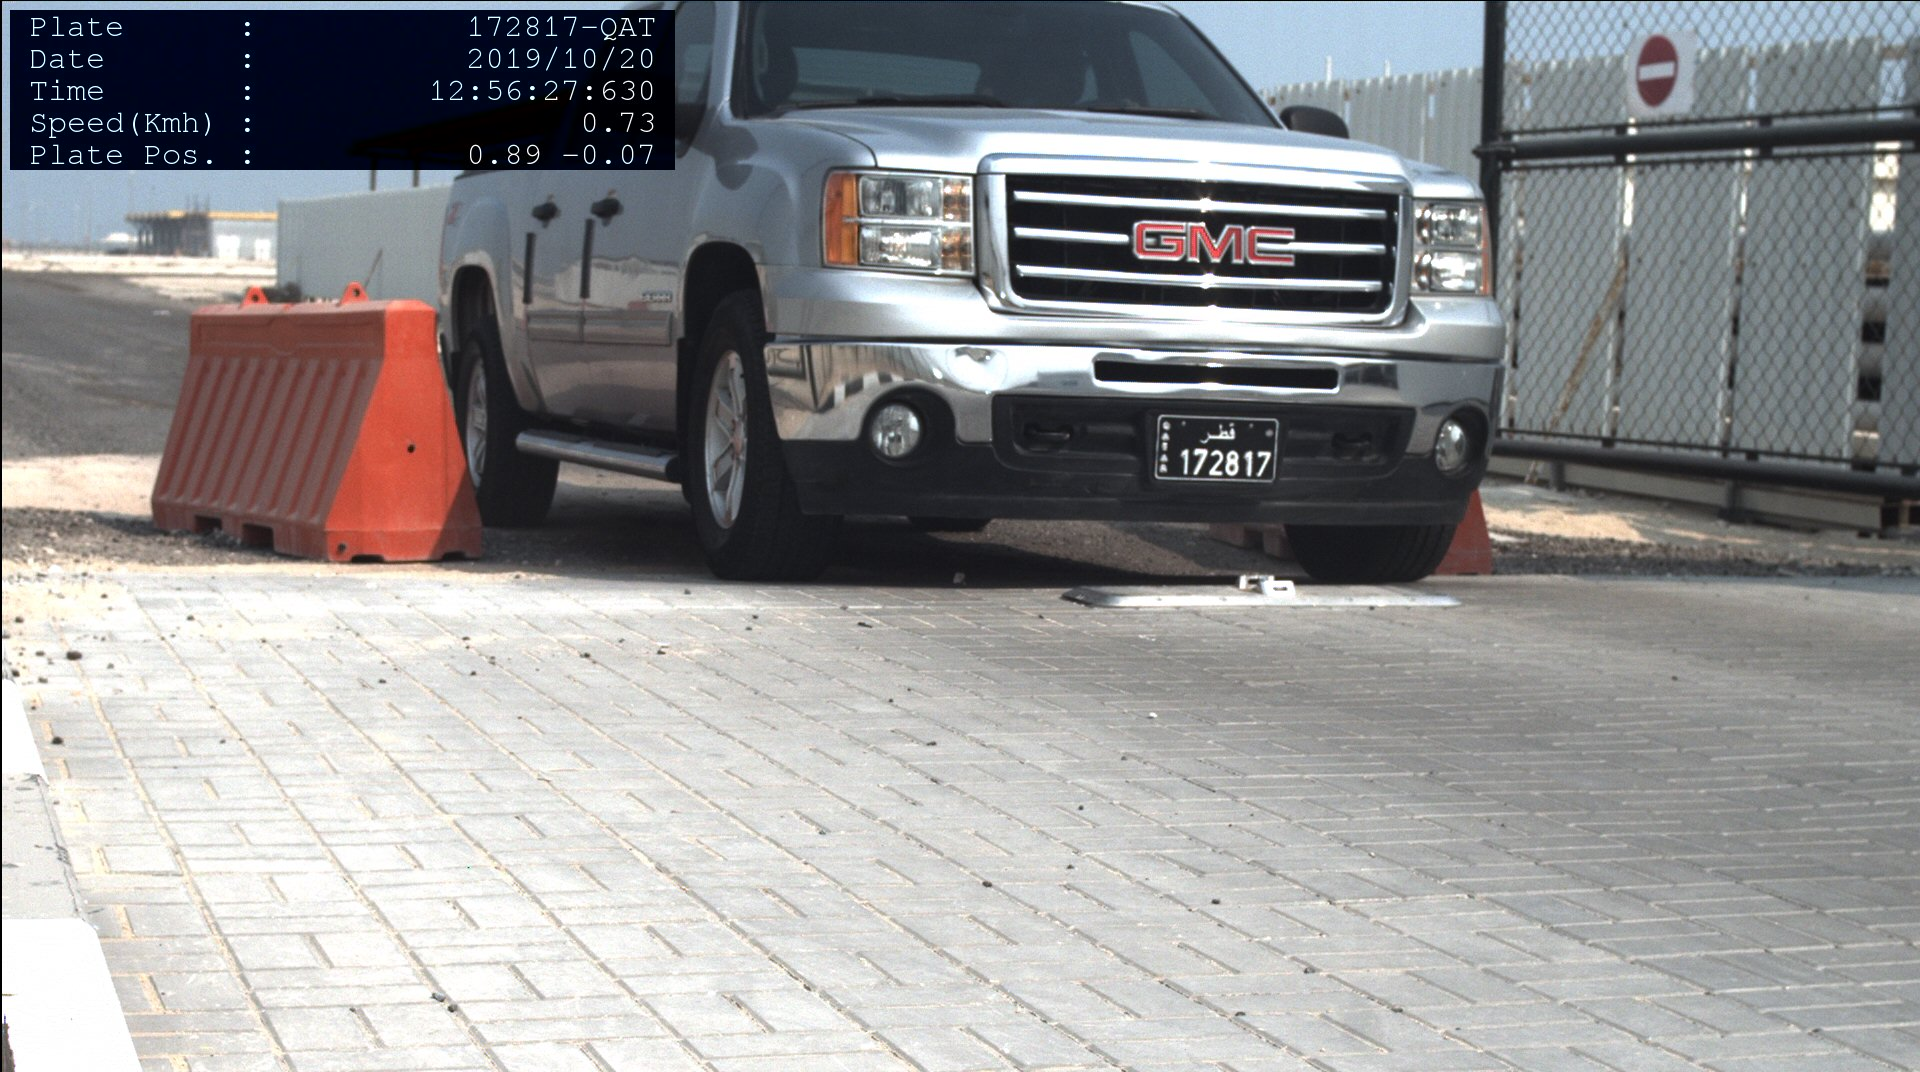License Plate: (1159, 417, 1278, 482)
